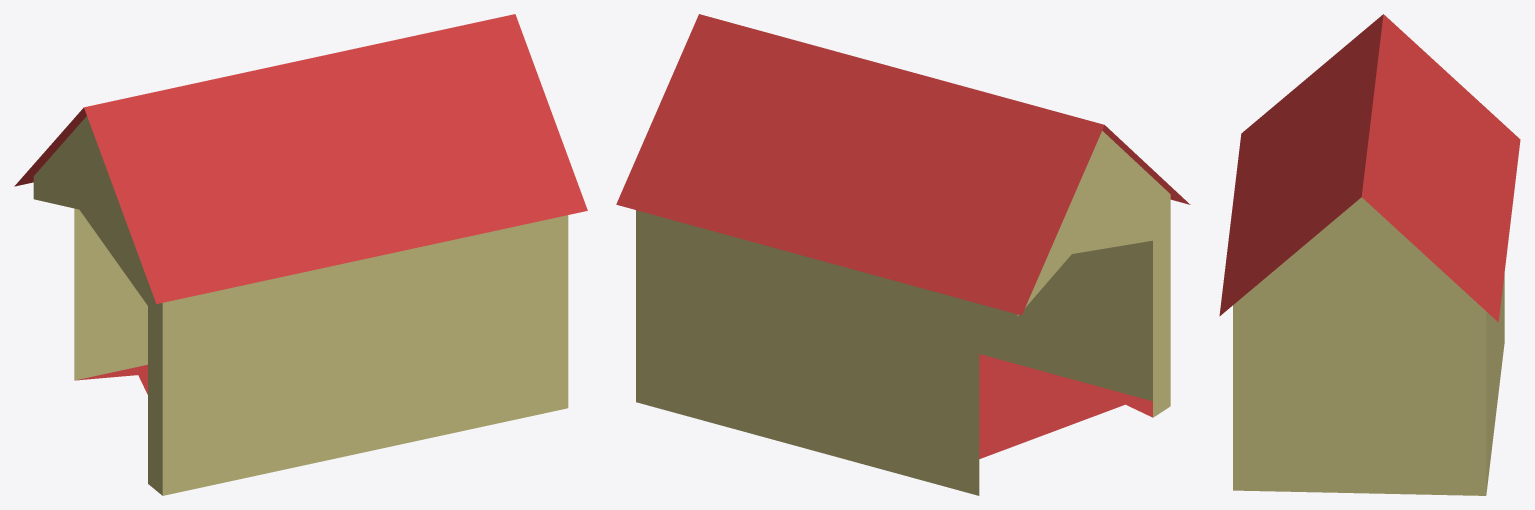
3 renders of one model, left to right at view 1: azimuth 30°, elevation 25°; view 2: azimuth 150°, elevation 25°; view 3: azimuth 270°, elevation 25°, orthographic. The views are drawn at different scales.
Bounding box in the file's own units: 17.2 × 11.57 × 12.79.
